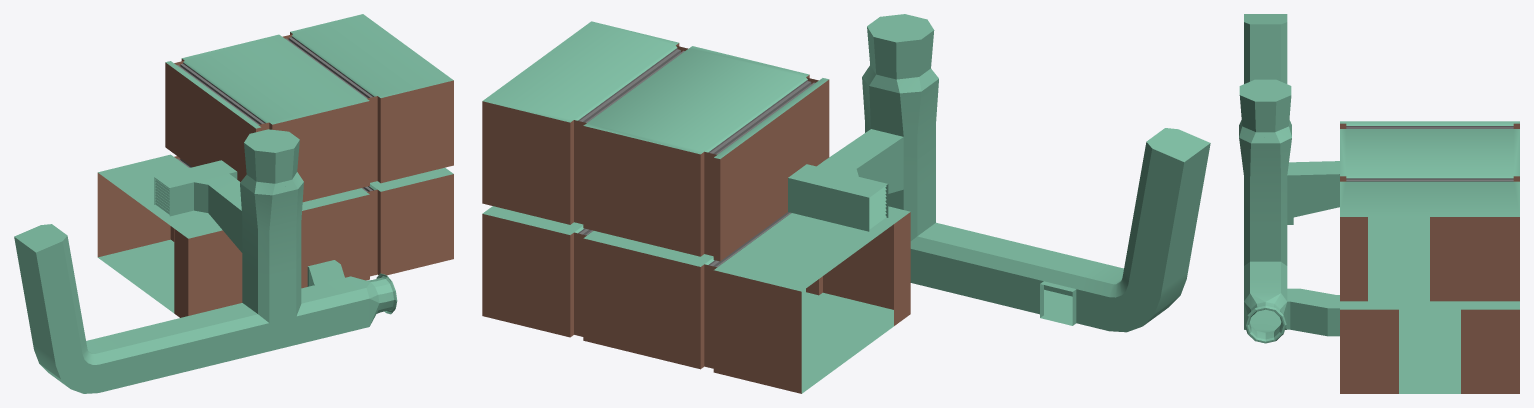
The model's file is SM_geo_ChangeRoomAndVent.fbx.
3 renders of one model, left to right at view 1: azimuth 30°, elevation 25°; view 2: azimuth 150°, elevation 25°; view 3: azimuth 270°, elevation 25°, orthographic. The views are drawn at different scales.
Visible parts, largest first — view 1: MaintenanceVent, StorageRoom, ChangeRoom; view 2: StorageRoom, ChangeRoom, MaintenanceVent; view 3: StorageRoom, MaintenanceVent, ChangeRoom.
Boxes of the visible parts, x1,y1,x2,y2 form: MaintenanceVent: (14,129,397,393); StorageRoom: (165,14,453,202); ChangeRoom: (97,154,453,317); StorageRoom: (482,21,829,261); ChangeRoom: (482,206,910,393); MaintenanceVent: (788,14,1210,332); StorageRoom: (1340,121,1519,301); MaintenanceVent: (1239,14,1339,343); ChangeRoom: (1340,301,1519,393).
Bounding box in the file's own units: 1721 × 704 × 906.
